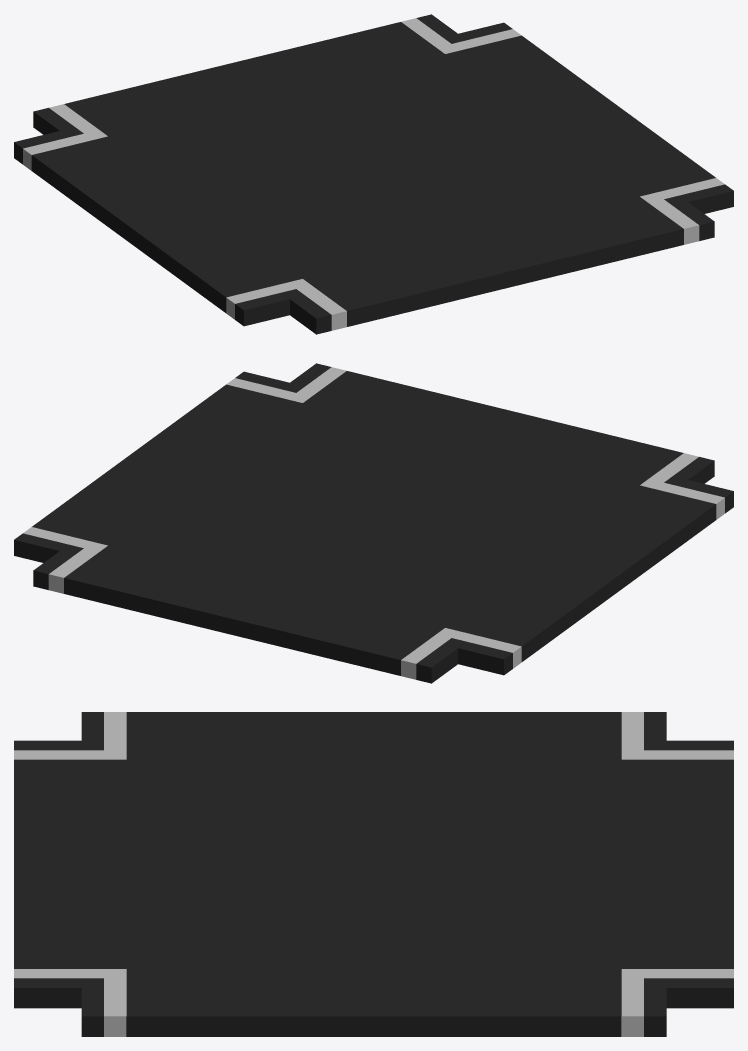
File: road-edgy-4-way-crossing-2.gltf
3 views of the same model, one above another, from view 1: azimuth 30°, elevation 25°; view 2: azimuth 150°, elevation 25°; view 3: azimuth 270°, elevation 25° (orthographic). The views are drawn at different scales.
Visible parts, largest first — view 1: road-edgy-4-way-crossing-2_model; view 2: road-edgy-4-way-crossing-2_model; view 3: road-edgy-4-way-crossing-2_model.
Part boxes in pixels (left/top/right/bottom): road-edgy-4-way-crossing-2_model: left=14, top=14, right=733, bottom=334; road-edgy-4-way-crossing-2_model: left=14, top=363, right=733, bottom=683; road-edgy-4-way-crossing-2_model: left=14, top=712, right=733, bottom=1036.
Size of the model in its own units: 3.2 by 0.1 by 3.2.
Materials: 1 (1 with a texture image).
